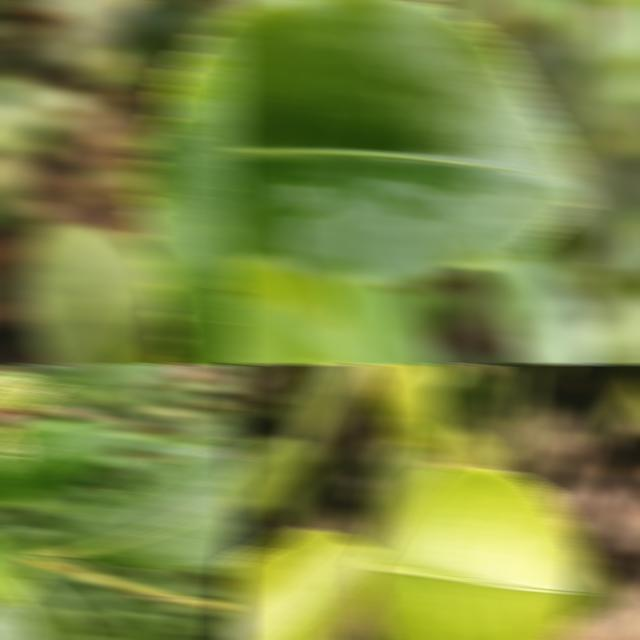Leaf: (228, 0, 592, 286), (362, 463, 624, 640), (131, 11, 244, 364), (49, 436, 244, 568), (367, 371, 490, 544), (19, 221, 165, 364), (228, 527, 377, 640), (228, 260, 370, 364), (476, 258, 599, 364), (0, 419, 117, 502), (332, 278, 442, 364), (357, 364, 449, 453), (287, 364, 370, 451), (228, 435, 308, 520), (0, 577, 84, 640), (0, 74, 60, 156), (593, 364, 640, 446), (452, 425, 498, 467), (558, 364, 597, 395), (0, 526, 25, 571)
